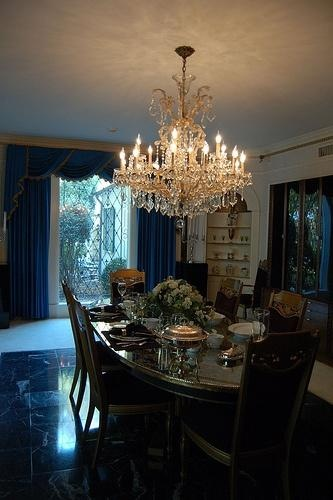chair: (173, 328, 325, 500), (70, 301, 185, 475), (61, 282, 90, 414), (263, 287, 311, 338), (109, 267, 150, 306), (213, 274, 247, 320)
diningtable: (86, 300, 257, 471)
